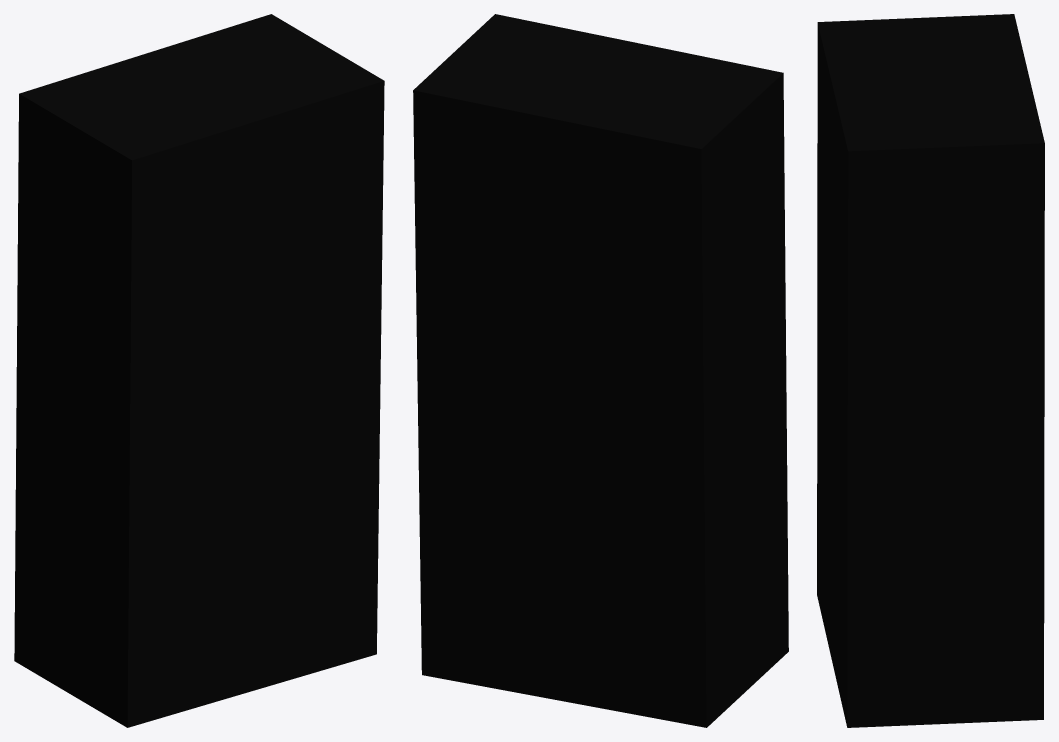
The model's file is blackkey.glb.
3 renders of one model, left to right at view 1: azimuth 30°, elevation 25°; view 2: azimuth 150°, elevation 25°; view 3: azimuth 270°, elevation 25°, orthographic. The views are drawn at different scales.
Visible parts, largest first — view 1: mesh_id32; view 2: mesh_id32; view 3: mesh_id32.
Part boxes in pixels (x1,y1,x2,y2): mesh_id32: (14,14,384,727); mesh_id32: (413,14,788,727); mesh_id32: (817,14,1044,727).
Bounding box in the file's own units: 0.1715 × 0.3242 × 0.1153.
Materials: 1 (1 with a texture image).
